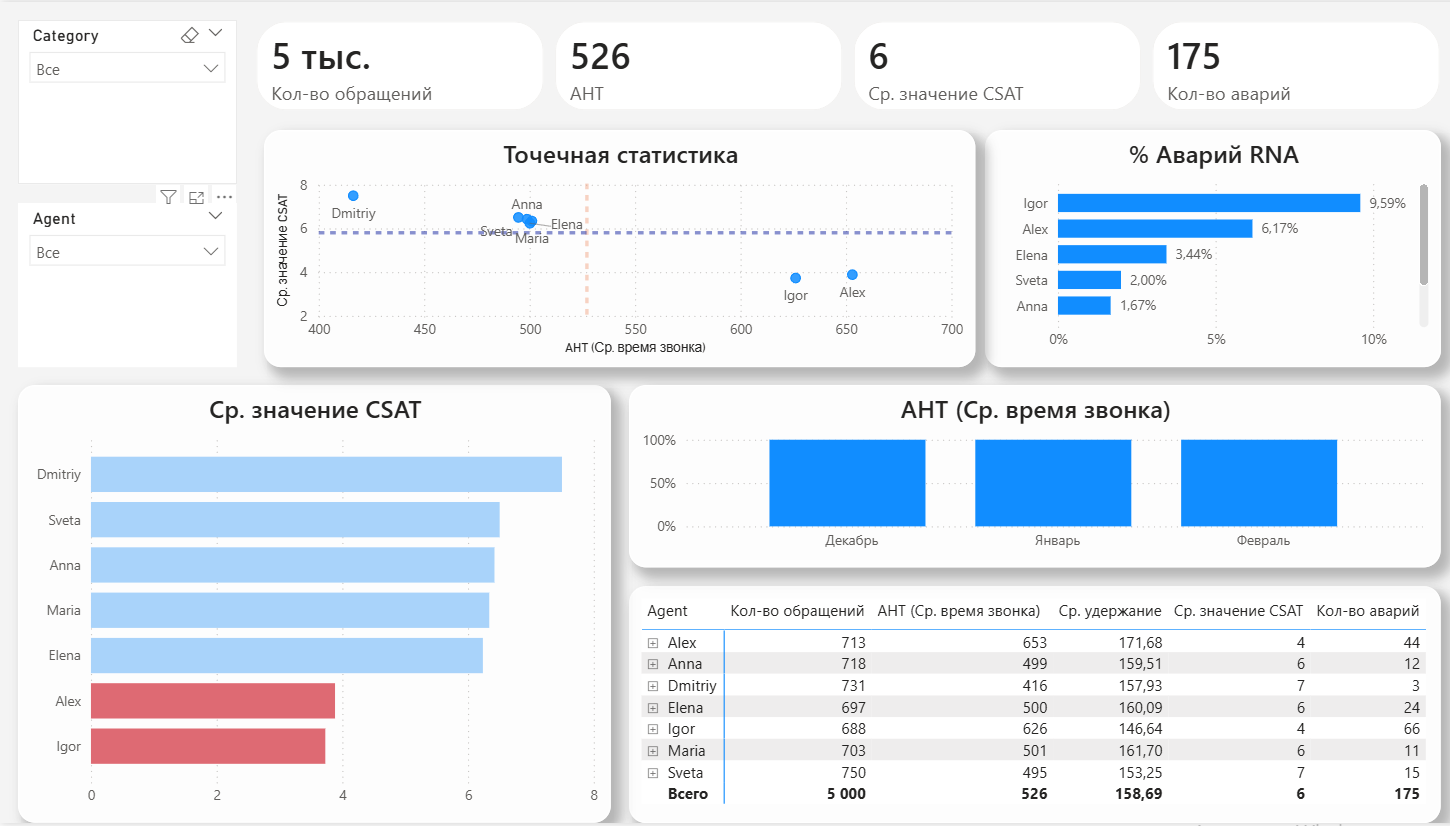

This screenshot's page, from the dashboard's own definition file:
{"tool":"powerbi","page":{"name":"Анализ сотрудников","canvas":[1280,720],"ordinal":1},"visuals":[{"type":"slicer","fields":{"Values":["kaspersky_support_data.Agent"]},"box":[16,176,192,144],"z":0},{"type":"pivotTable","fields":{"Rows":["kaspersky_support_data.Agent","kaspersky_support_data.Category"],"Values":["DAX.Кол-во обращений","DAX.AHT (Среднее время звонка)","DAX.Ср. удержание","DAX.Ср. значение CSAT","DAX.Кол-во аварий"]},"box":[552,512,712,208],"z":1000},{"type":"clusteredBarChart","title":"Ср. значение CSAT","fields":{"Category":["kaspersky_support_data.Agent"],"Y":["DAX.Ср. значение CSAT"]},"box":[16,336,520,384],"z":2000},{"type":"cardVisual","fields":{"Data":["DAX.Кол-во обращений","DAX.AHT (Среднее время звонка)","DAX.Ср. значение CSAT","DAX.Кол-во аварий"]},"box":[208,0,1072,112],"z":3000},{"type":"clusteredBarChart","title":"% Аварий RNA","fields":{"Category":["kaspersky_support_data.Agent"],"Y":["DAX.% Аварий RNA"]},"box":[864,112,400,208],"z":4000},{"type":"scatterChart","title":"Точечная статистика","fields":{"Category":["kaspersky_support_data.Agent"],"X":["DAX.AHT (Ср. время звонка)"],"Y":["DAX.Ср. значение CSAT"]},"box":[232,112,624,208],"z":5000},{"type":"slicer","fields":{"Values":["kaspersky_support_data.Category"]},"box":[16,16,192,144],"z":6000},{"type":"hundredPercentStackedColumnChart","title":"AHT (Ср. время звонка)","fields":{"Category":["Календарь.Месяц"],"Y":["DAX.AHT (Ср. время звонка)"]},"box":[552,336,712,160],"z":7000}]}

Visuals, with their boxes in screenshot pixels (x1, y1, x2, y2), scaled from the page's 1280x720 canvas onto the 1450x826 screenshot:
slicer - kaspersky_support_data.Agent: 18 202 236 367
pivotTable - kaspersky_support_data.Agent x kaspersky_support_data.Category: 625 587 1432 825
"Ср. значение CSAT" clusteredBarChart: 18 385 607 825
cardVisual - DAX.Кол-во обращений x DAX.AHT (Среднее время звонка): 236 0 1449 128
"% Аварий RNA" clusteredBarChart: 979 128 1432 367
"Точечная статистика" scatterChart: 263 128 970 367
slicer - kaspersky_support_data.Category: 18 18 236 184
"AHT (Ср. время звонка)" hundredPercentStackedColumnChart: 625 385 1432 569
